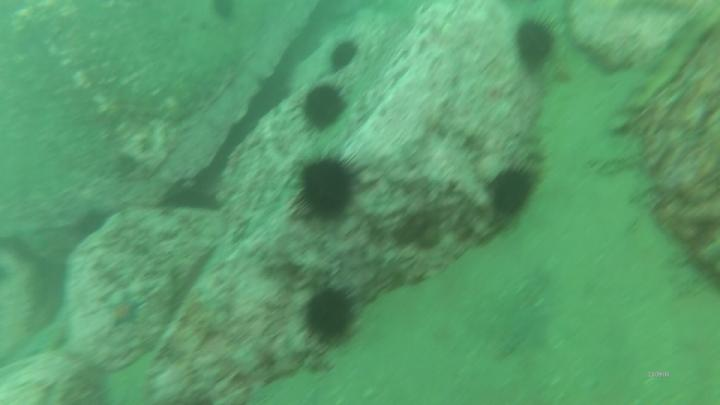echinus: (302, 281, 364, 347), (300, 152, 357, 222), (486, 163, 543, 221), (295, 81, 356, 134), (518, 13, 560, 70), (325, 40, 361, 72)
holothurian: (613, 4, 719, 123)
starfish: (108, 294, 143, 330)
